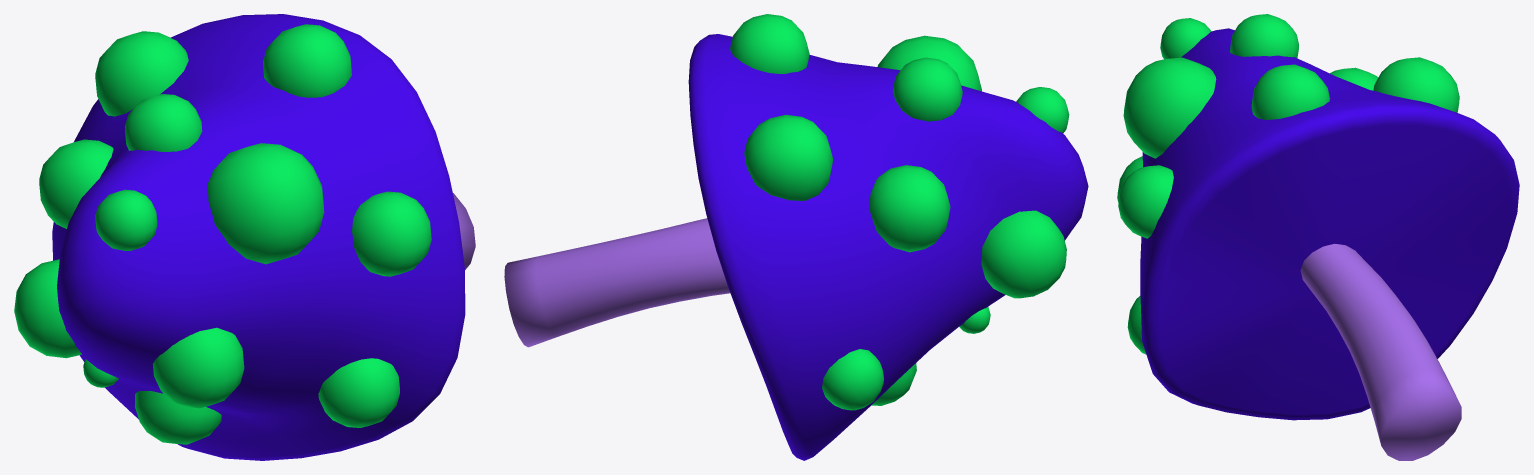
Rendered from CogumeloEstranho.fbx.
The picture shows the model from 3 angles, left to right: view 1: azimuth 30°, elevation 25°; view 2: azimuth 150°, elevation 25°; view 3: azimuth 270°, elevation 25°; orthographic projection. The views are drawn at different scales.
Parts seen in each view (by area): view 1: CogumeloEstranho; view 2: CogumeloEstranho; view 3: CogumeloEstranho.
Boxes of the visible parts, left/top/right/bottom form: CogumeloEstranho: left=14, top=14, right=475, bottom=460; CogumeloEstranho: left=504, top=14, right=1088, bottom=460; CogumeloEstranho: left=1117, top=14, right=1519, bottom=460.
Bounding box in the file's own units: 209 × 164 × 158.
